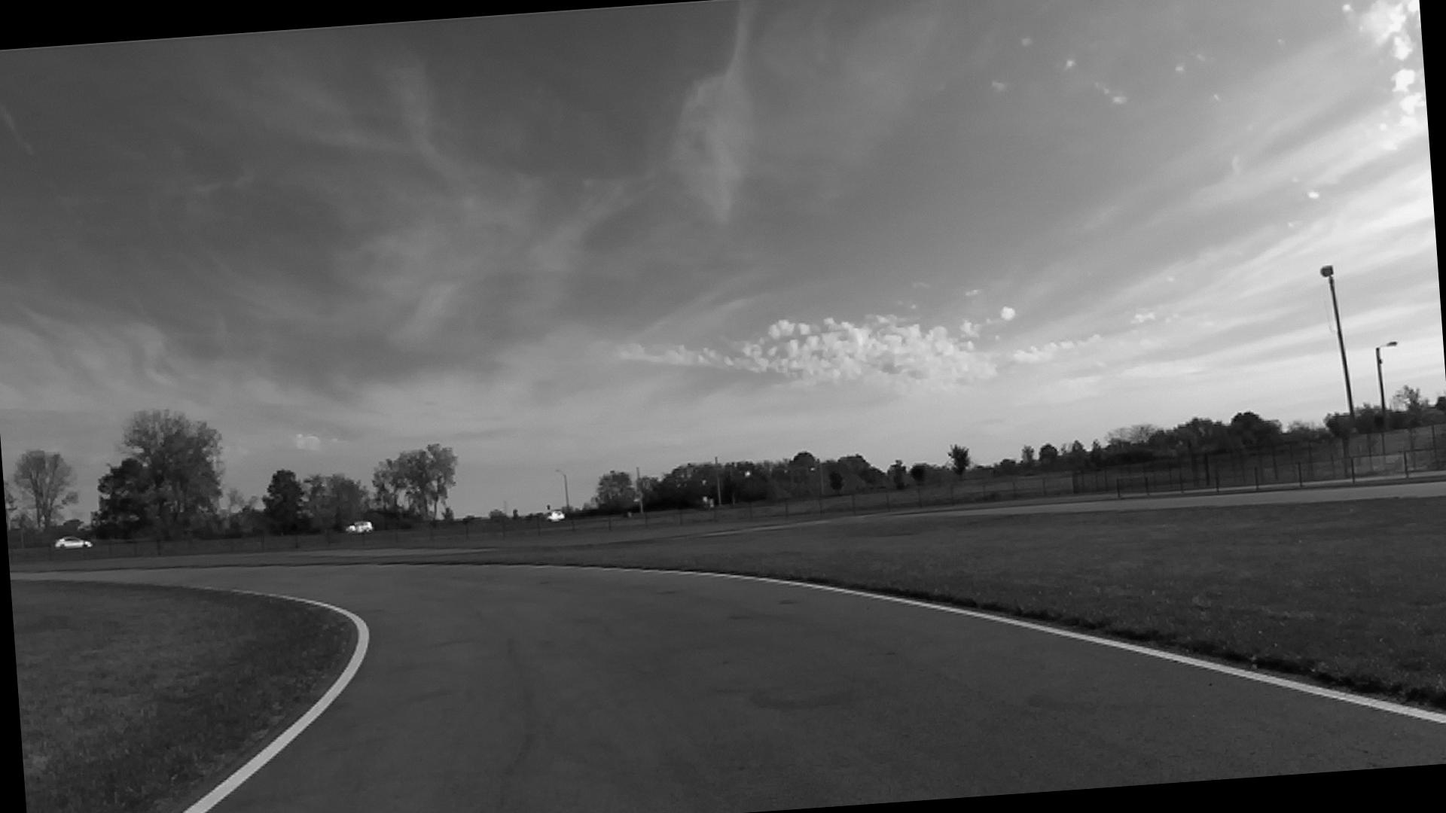white-line: (560, 566, 1446, 725), (182, 591, 370, 813)
